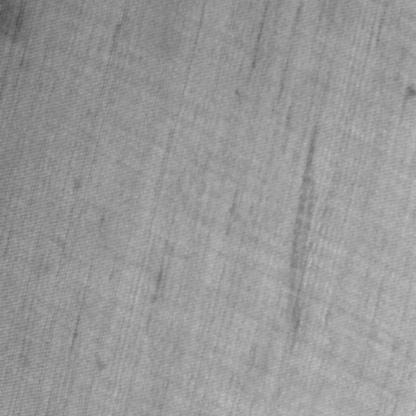oil spot: (283, 118, 325, 356), (1, 1, 26, 46)
